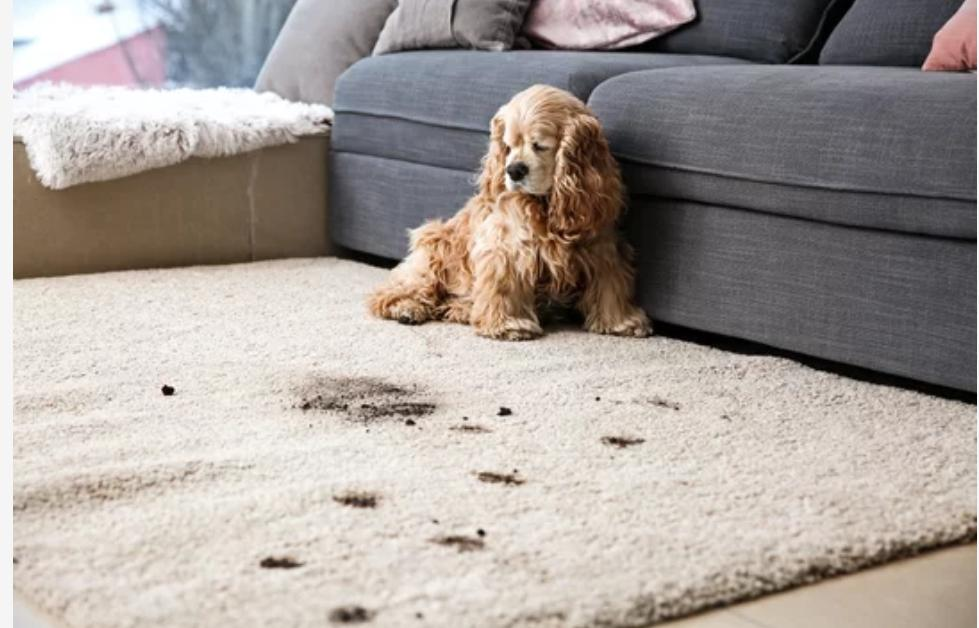carpet: (15, 258, 975, 625)
